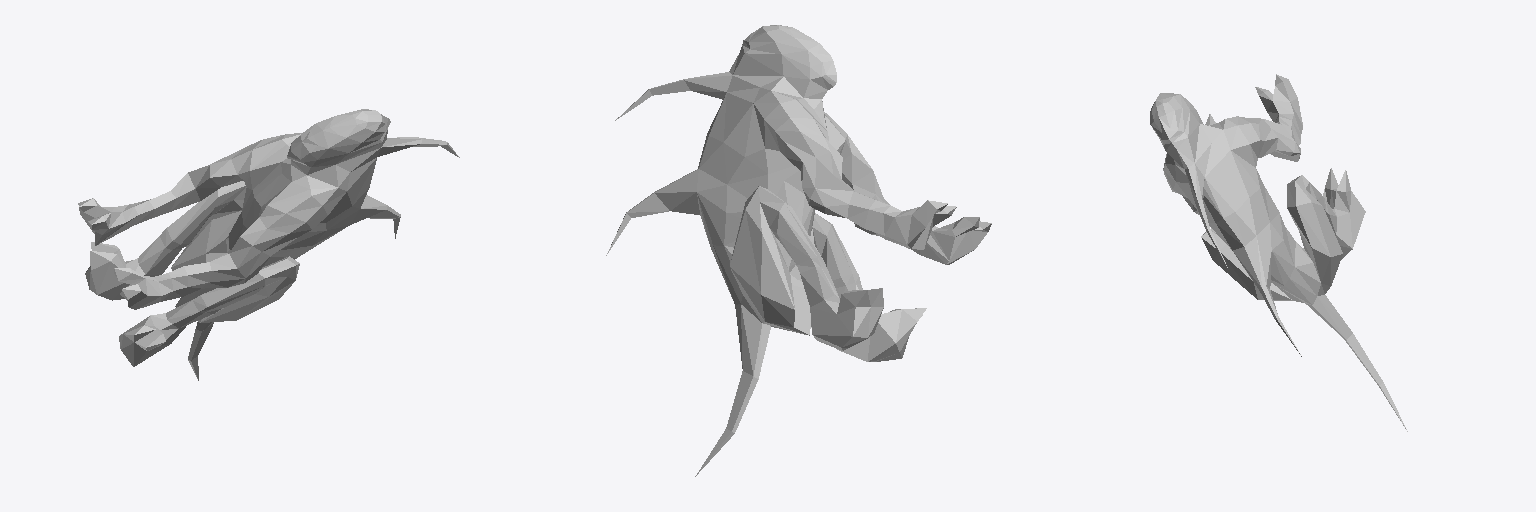
File: monster2.obj
3 views of the same model, side by side, from view 1: azimuth 30°, elevation 25°; view 2: azimuth 150°, elevation 25°; view 3: azimuth 270°, elevation 25° (orthographic).
Visible parts, largest first — view 1: Mesh_Mesh_Mesh_monster; view 2: Mesh_Mesh_Mesh_monster; view 3: Mesh_Mesh_Mesh_monster.
Boxes of the visible parts, <box> form: Mesh_Mesh_Mesh_monster: <box>78,109,459,380</box>; Mesh_Mesh_Mesh_monster: <box>606,25,991,476</box>; Mesh_Mesh_Mesh_monster: <box>1150,74,1407,431</box>.
Size of the model in its own units: 4.71 by 4.41 by 2.96.